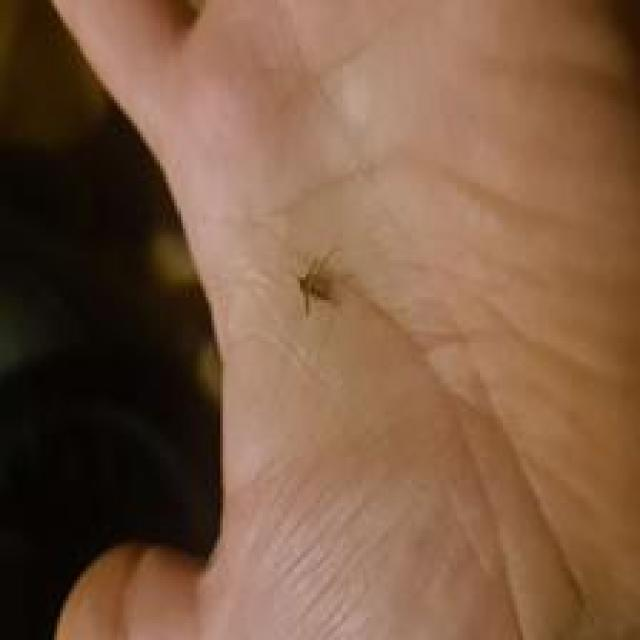Culex: (293, 249, 338, 317)
